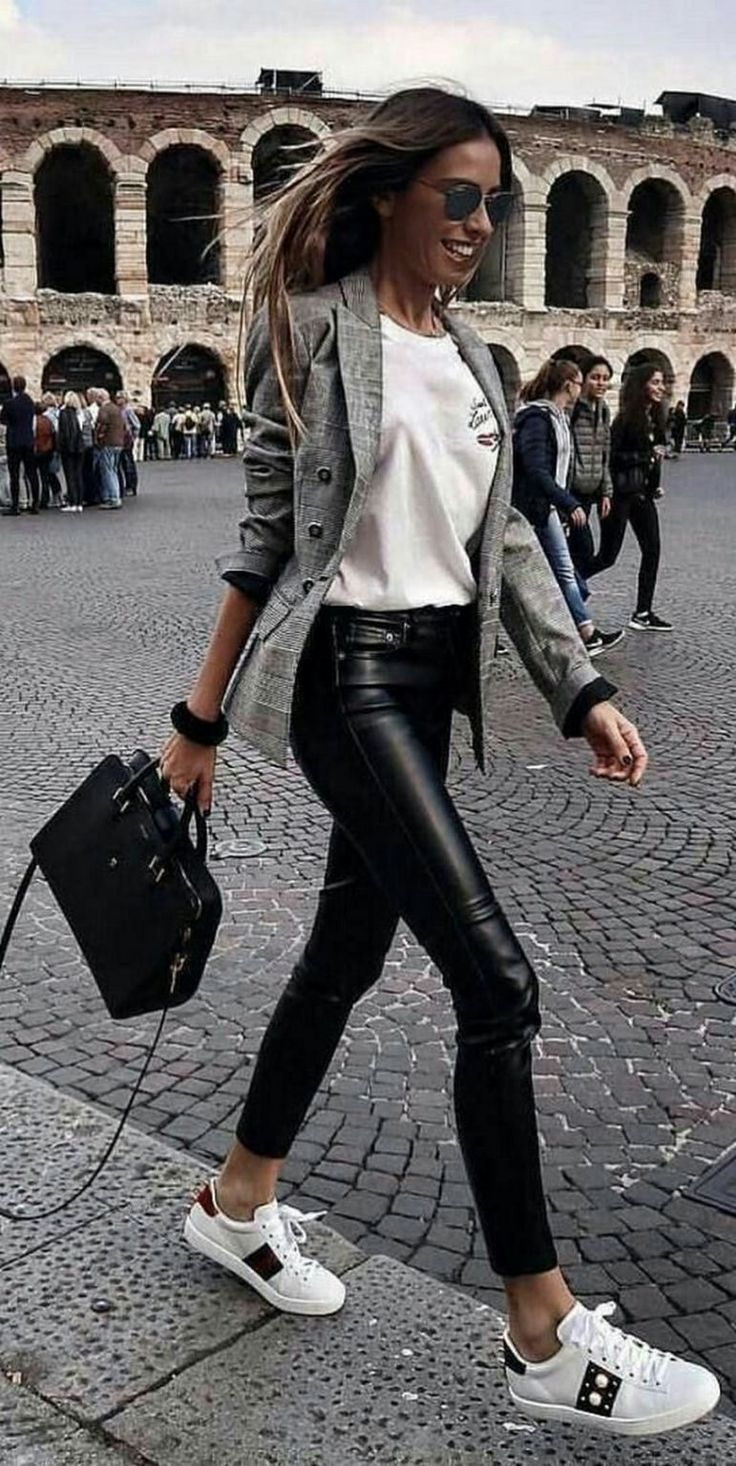cuero: (3, 604, 560, 1277)
